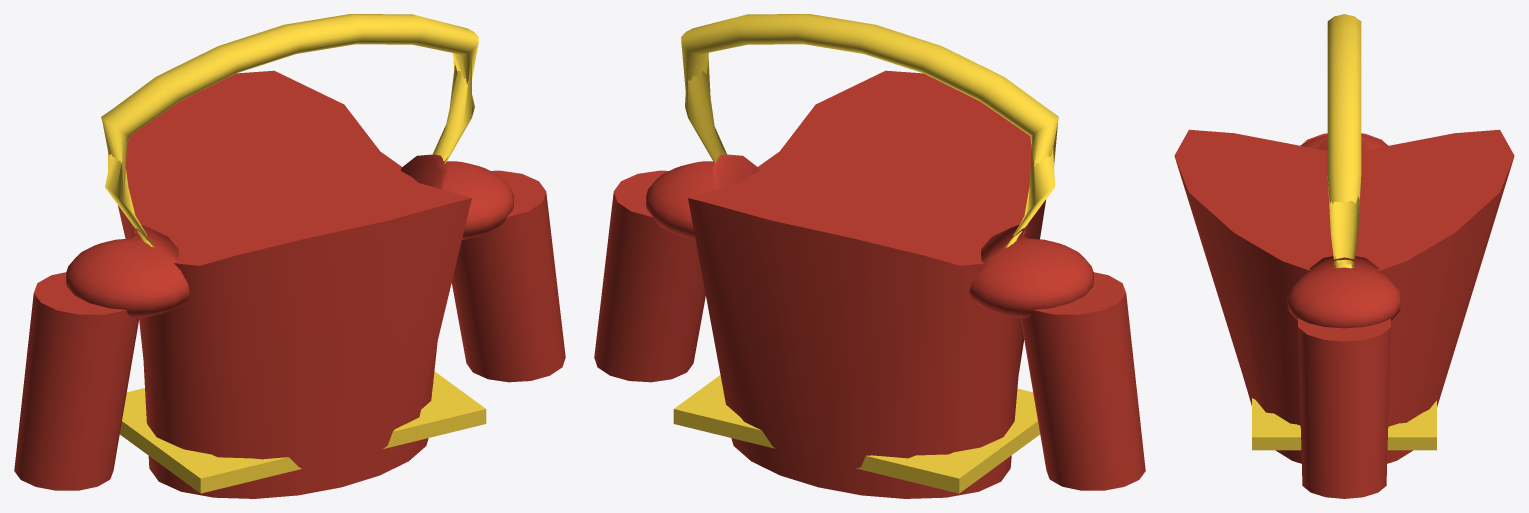
File: top_ancient_1.glb
3 views of the same model, side by side, from view 1: azimuth 30°, elevation 25°; view 2: azimuth 150°, elevation 25°; view 3: azimuth 270°, elevation 25° (orthographic). The views are drawn at different scales.
Bounding box in the file's own units: 0.7814 × 0.5865 × 0.4947.
